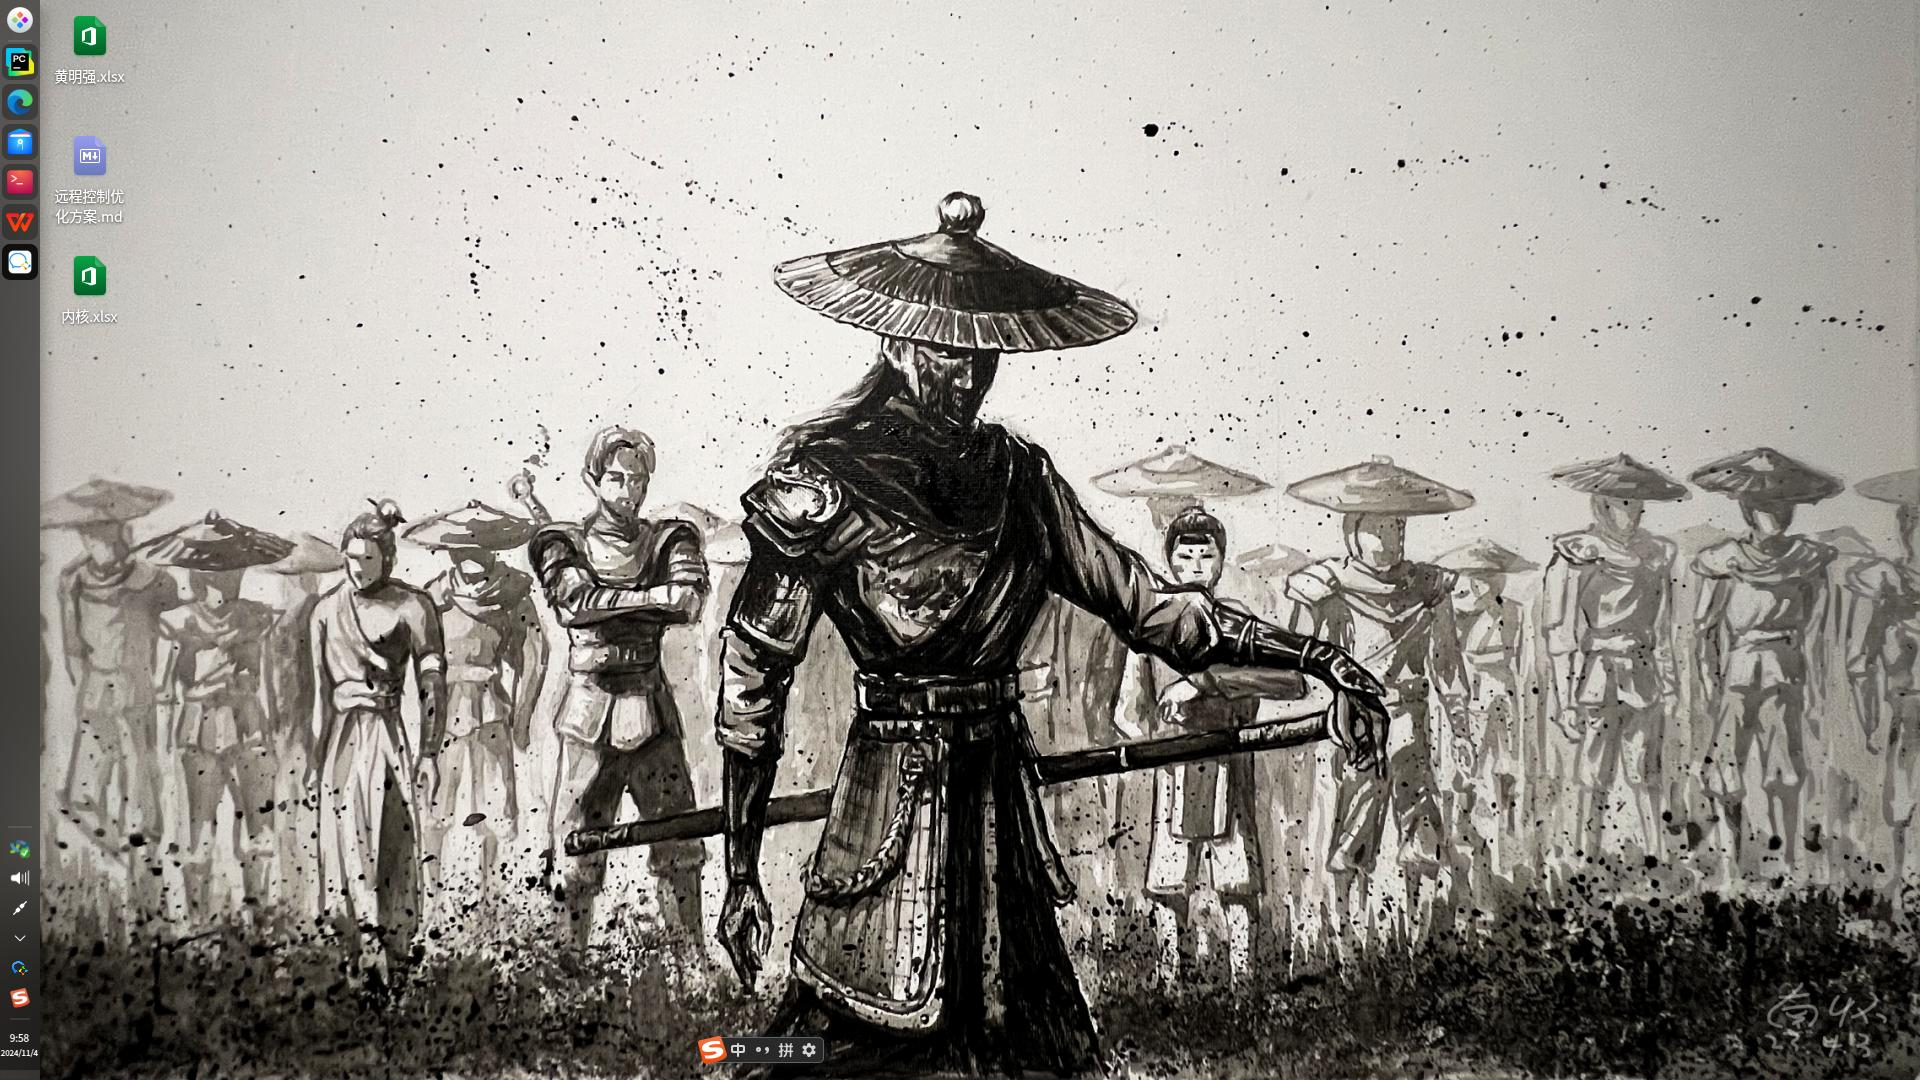dde_file_manager_icon: (5, 127, 36, 157)
dde_launcher_icon: (5, 5, 36, 36)
